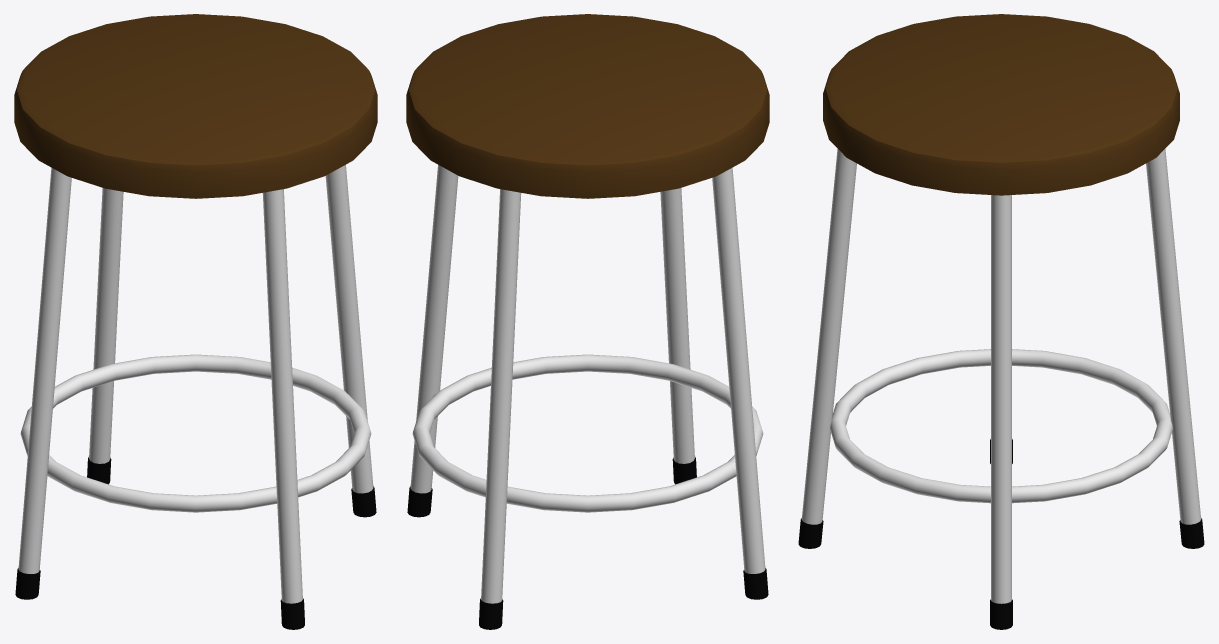
Rendered from Asiento.dae.
3 views of the same model, side by side, from view 1: azimuth 30°, elevation 25°; view 2: azimuth 150°, elevation 25°; view 3: azimuth 270°, elevation 25° (orthographic).
Parts seen in each view (by area): view 1: Stool.001; view 2: Stool.001; view 3: Stool.001.
Part boxes in pixels (left/top/right/bottom): Stool.001: left=14, top=14, right=377, bottom=629; Stool.001: left=406, top=14, right=769, bottom=629; Stool.001: left=798, top=14, right=1204, bottom=629.
Bounding box in the file's own units: 0.4667 × 0.4667 × 0.581.
